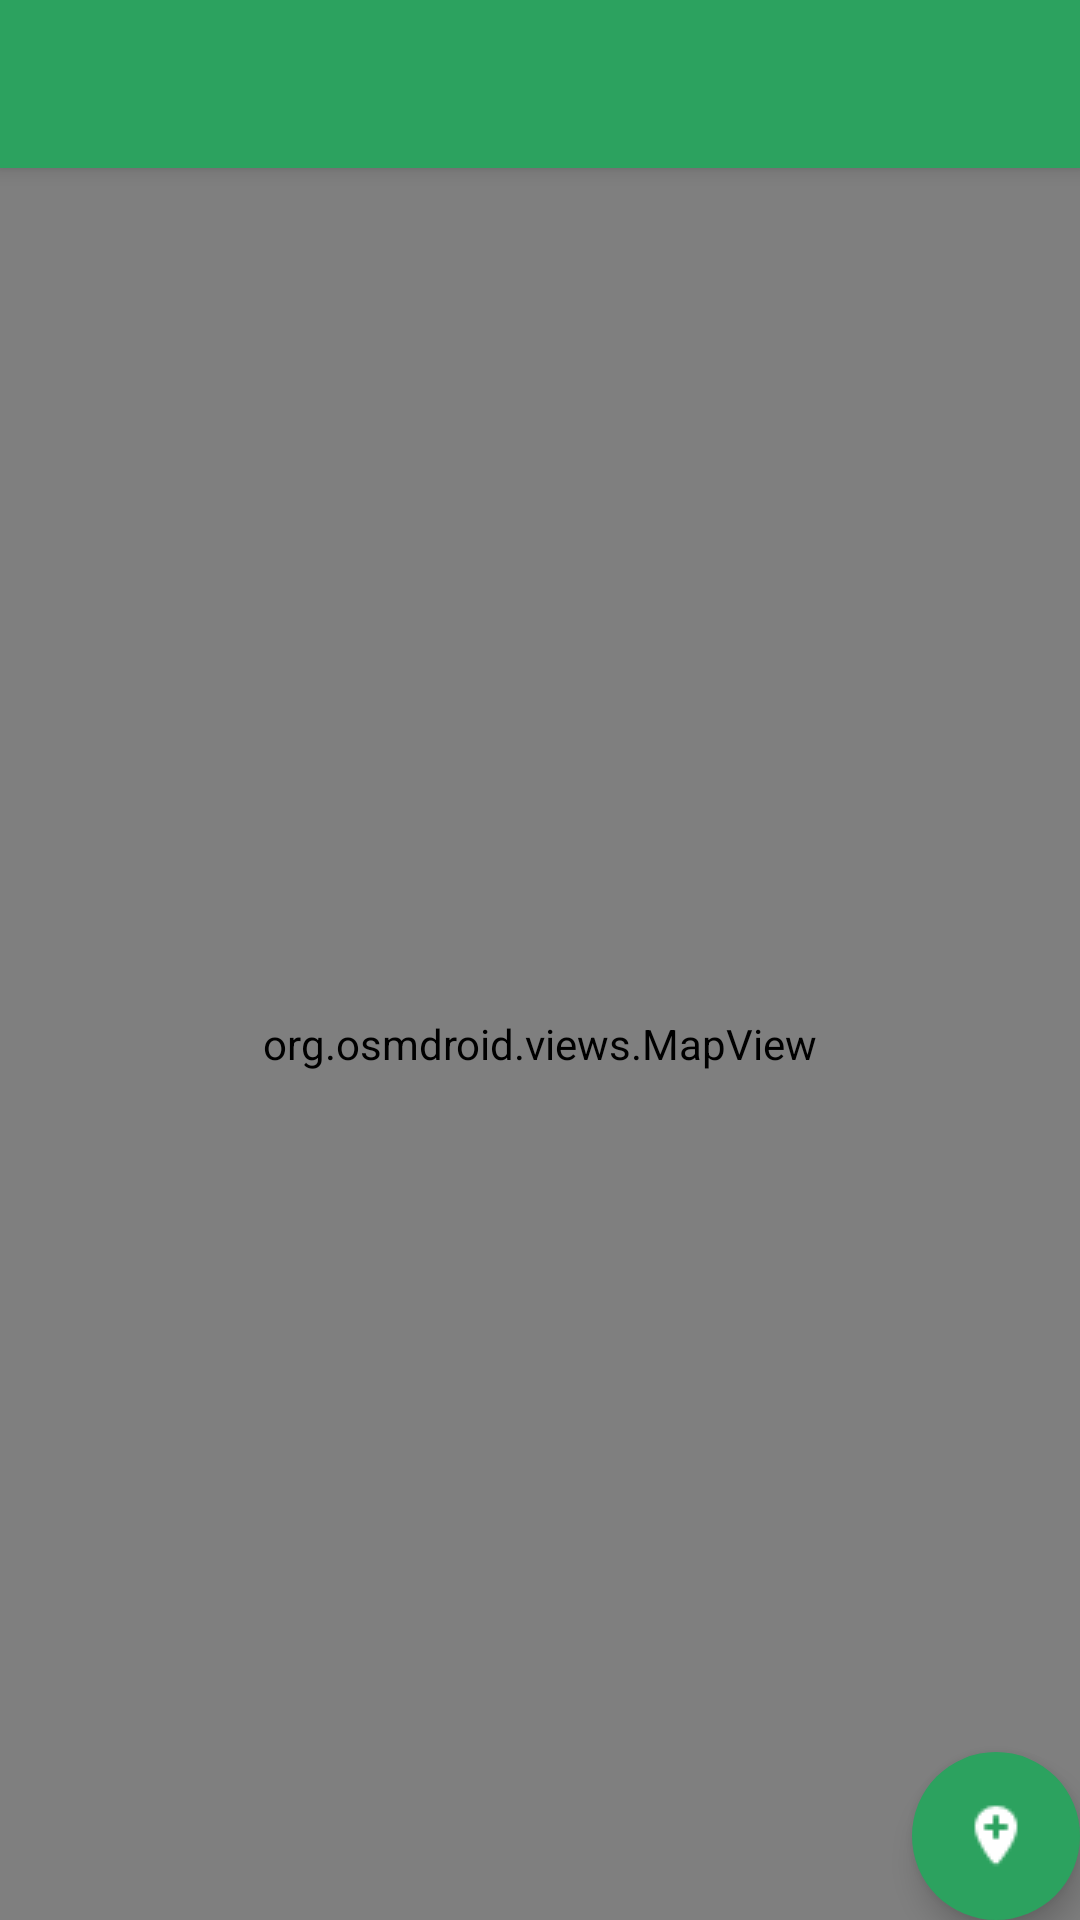

Point at icon controls on the screen. Image size 1080x1920, points as (x,y).
add location: (996,1836)
